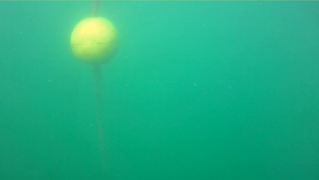buoy: (69, 16, 121, 66)
